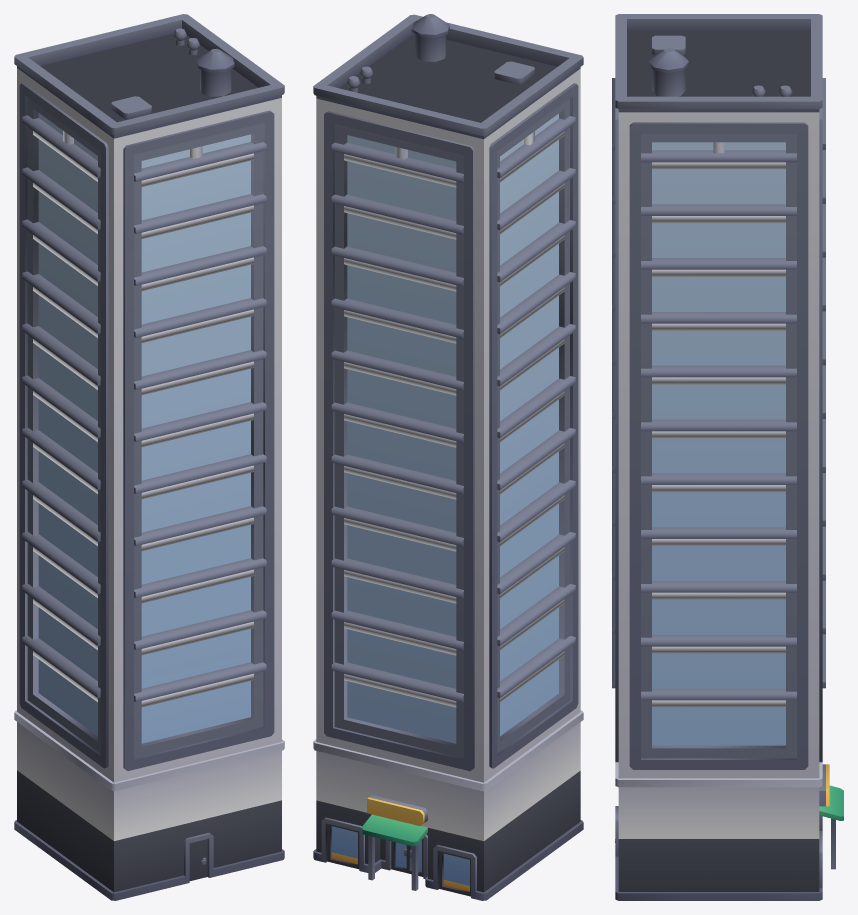
The model's file is k_c_building-skyscraper-d.glb.
3 views of the same model, side by side, from view 1: azimuth 30°, elevation 25°; view 2: azimuth 150°, elevation 25°; view 3: azimuth 270°, elevation 25° (orthographic). The views are drawn at different scales.
Visible parts, largest first — view 1: building-skyscraper-d; view 2: building-skyscraper-d; view 3: building-skyscraper-d.
Part boxes in pixels (x1,y1,x2,y2): building-skyscraper-d: [14, 14, 284, 900]; building-skyscraper-d: [313, 14, 583, 900]; building-skyscraper-d: [612, 14, 843, 900].
Bounding box in the file's own units: 1.28 × 5.47 × 1.39.
Materials: 1 (1 with a texture image).
